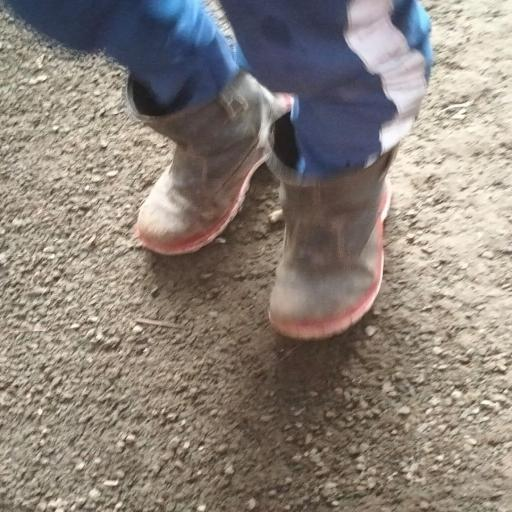safety_shoe: (252, 116, 396, 342), (100, 77, 278, 259)
